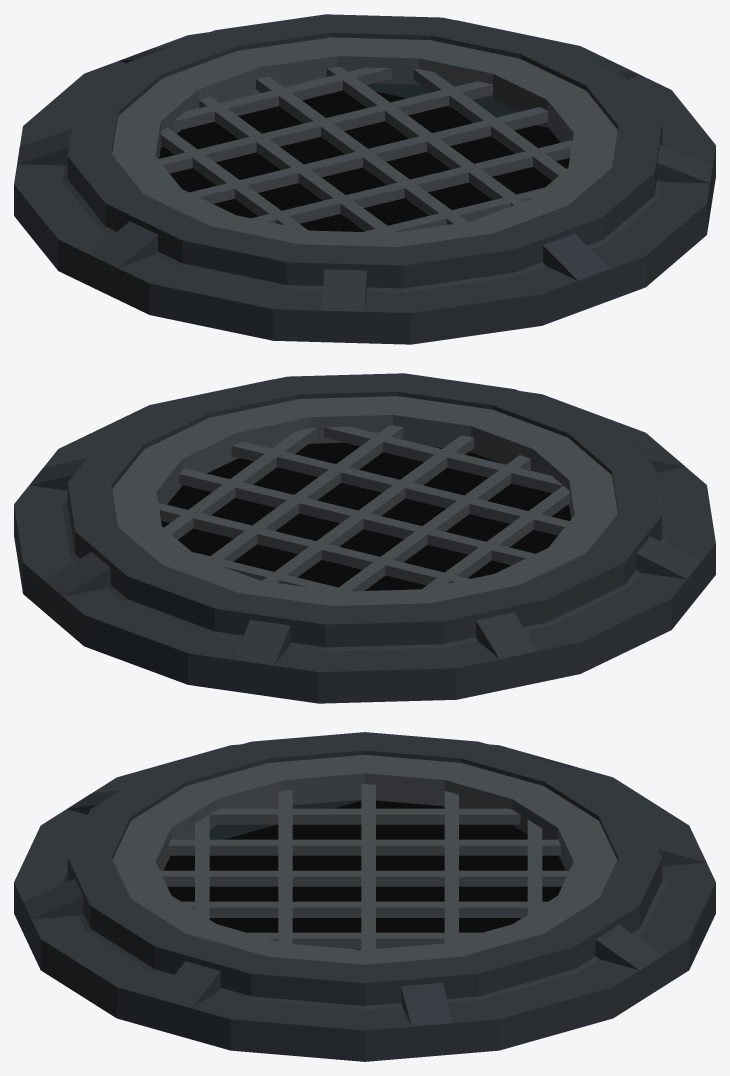
File: SM_FloorProps_07.fbx
3 views of the same model, one above another, from view 1: azimuth 30°, elevation 25°; view 2: azimuth 150°, elevation 25°; view 3: azimuth 270°, elevation 25° (orthographic).
Parts seen in each view (by area): view 1: SM_FloorProps_07; view 2: SM_FloorProps_07; view 3: SM_FloorProps_07.
Boxes of the visible parts, bbox=[...] form: SM_FloorProps_07: bbox=[14, 14, 715, 344]; SM_FloorProps_07: bbox=[14, 373, 715, 703]; SM_FloorProps_07: bbox=[14, 732, 715, 1061].
Bounding box in the file's own units: 0.8694 × 0.0764 × 0.8694.
